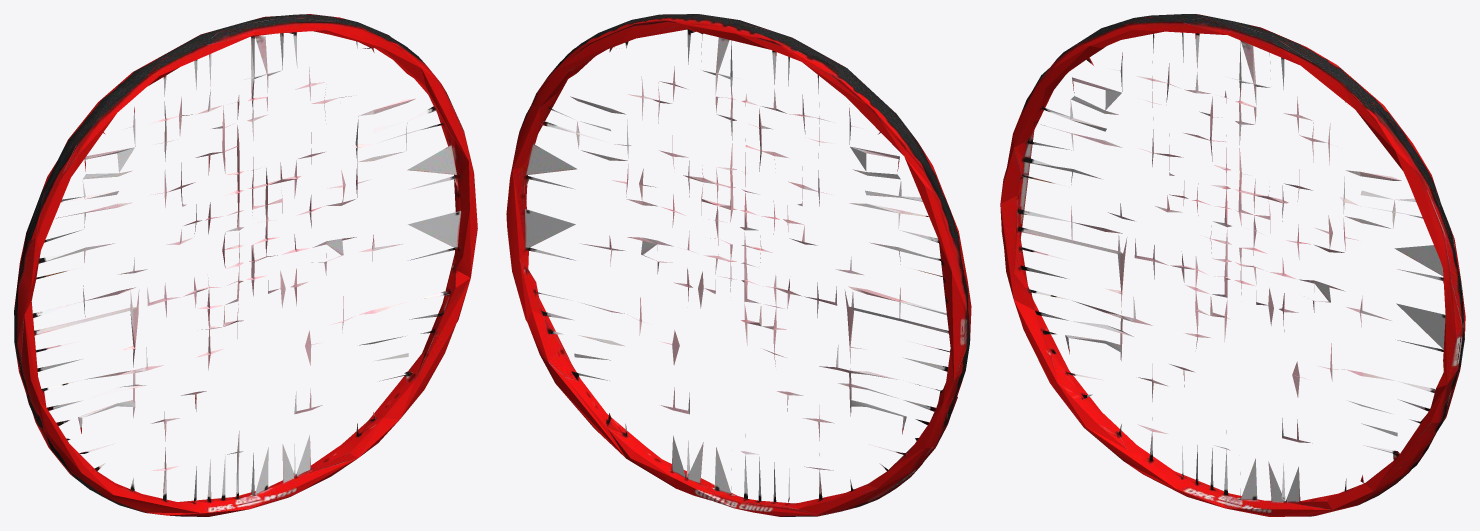
Rendered from racket.glb.
The picture shows the model from 3 angles, left to right: view 1: azimuth 30°, elevation 25°; view 2: azimuth 150°, elevation 25°; view 3: azimuth 330°, elevation 25°; orthographic projection.
Size of the model in its own units: 1.89 by 1.9 by 0.1038.
Materials: 1 (1 with a texture image).
